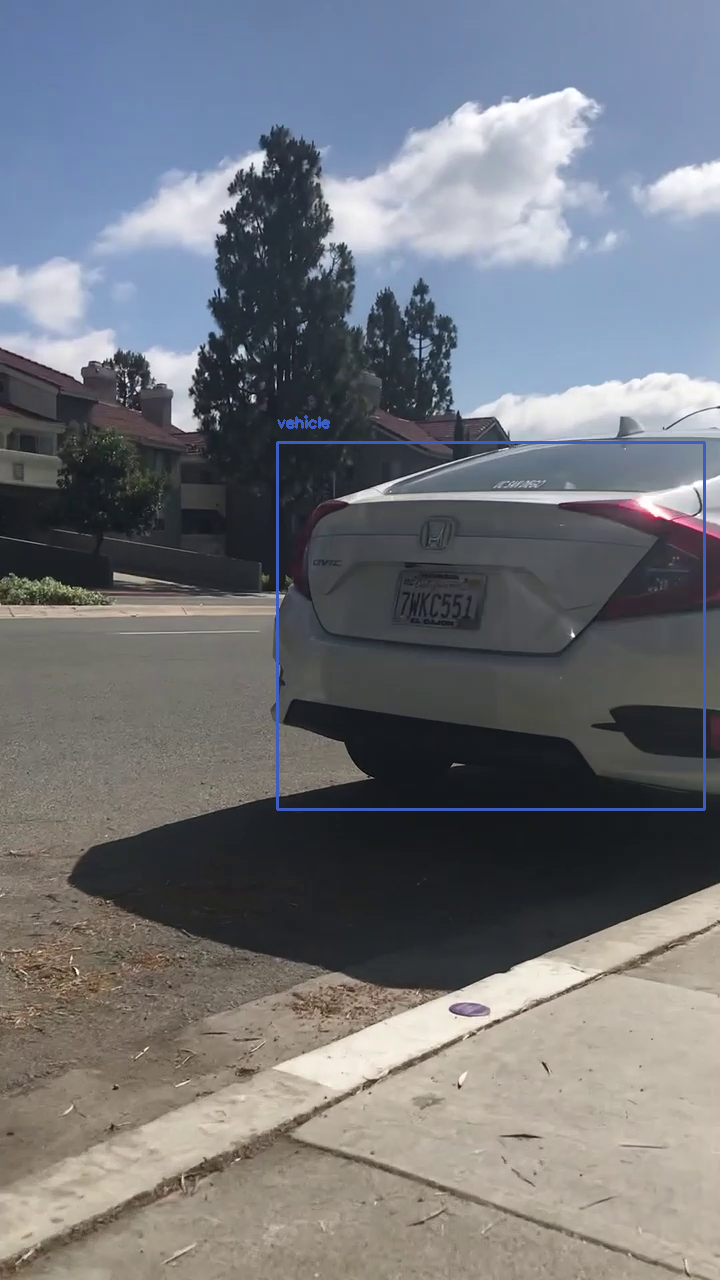vehicle: (277, 442, 704, 809)
